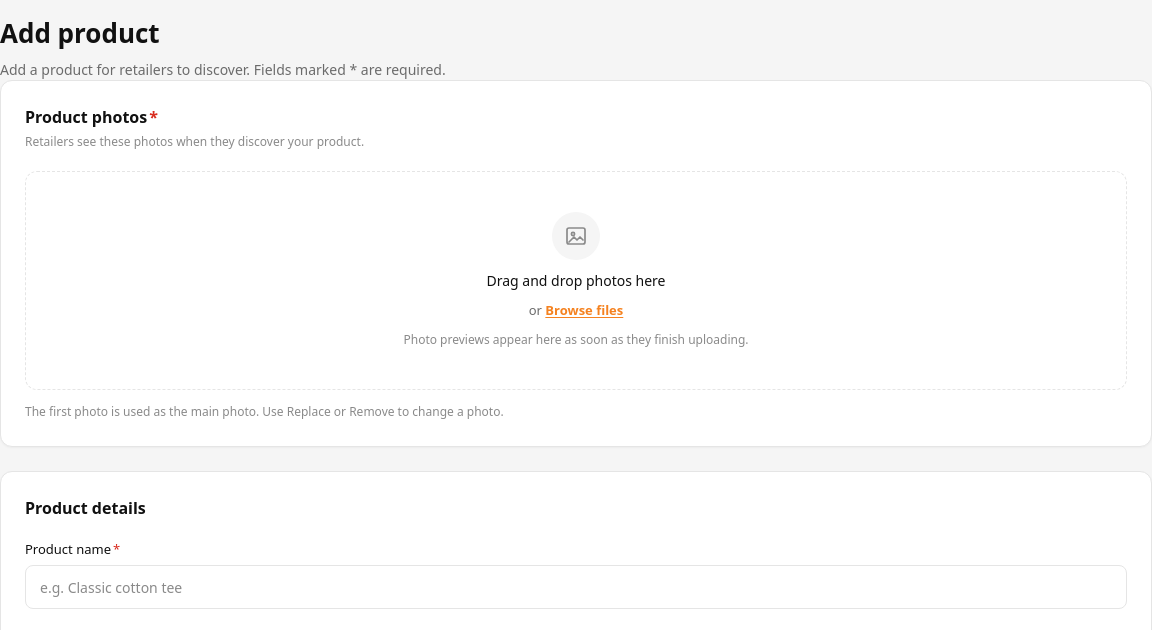
Test: add product form › updates the sticky Preview card live as fields are typed
Type "Cotton polo shirt" into the field labelled "Product name*".
click(576, 587); type("Cotton polo shirt")  # box x1=25 y1=565 x2=1127 y2=609
(page scrolled)
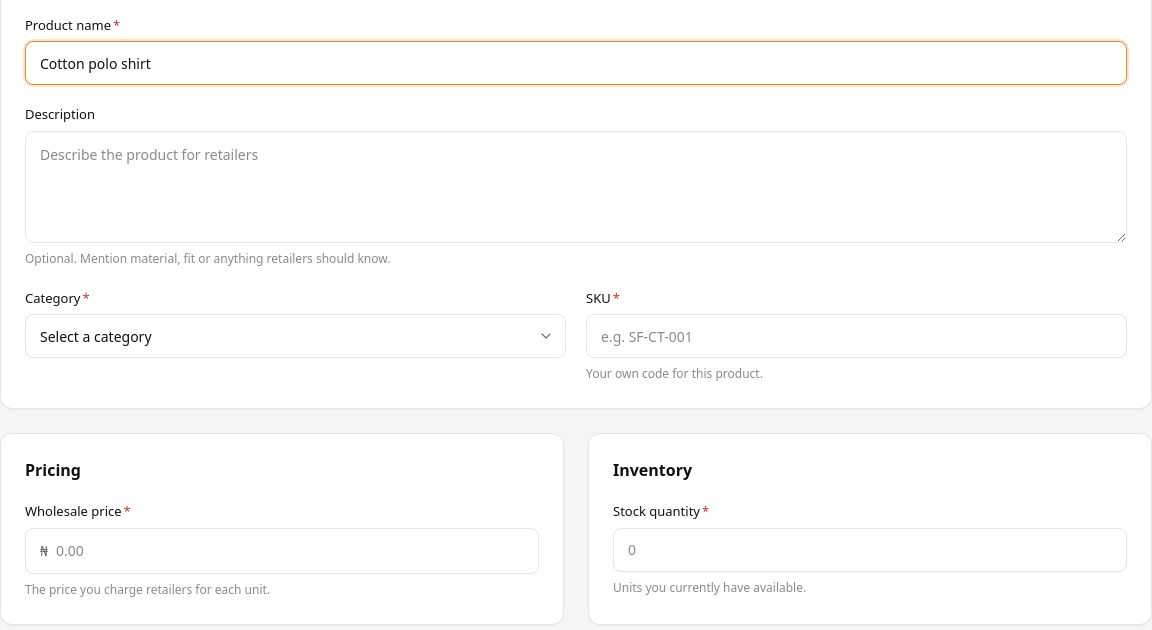
Select "Tops" in the dropdown labelled "Category*" at (296, 336), box x1=25 y1=314 x2=566 y2=358
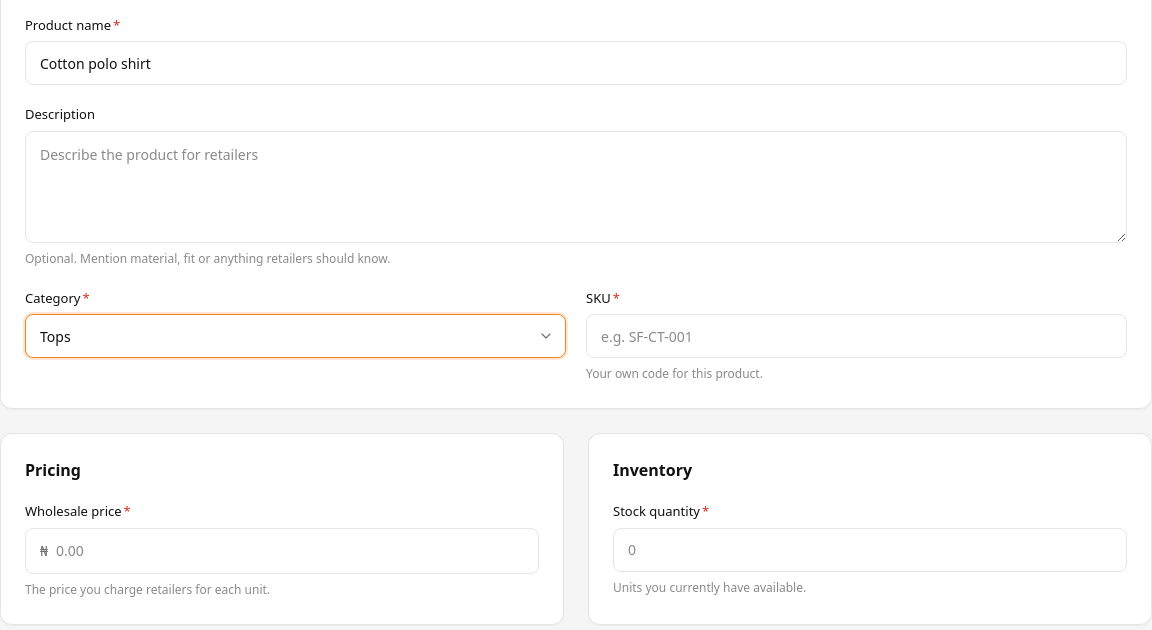
Type "SF-PS-022" into the field labelled "SKU*".
click(856, 336); type("SF-PS-022")  # box x1=586 y1=314 x2=1127 y2=358
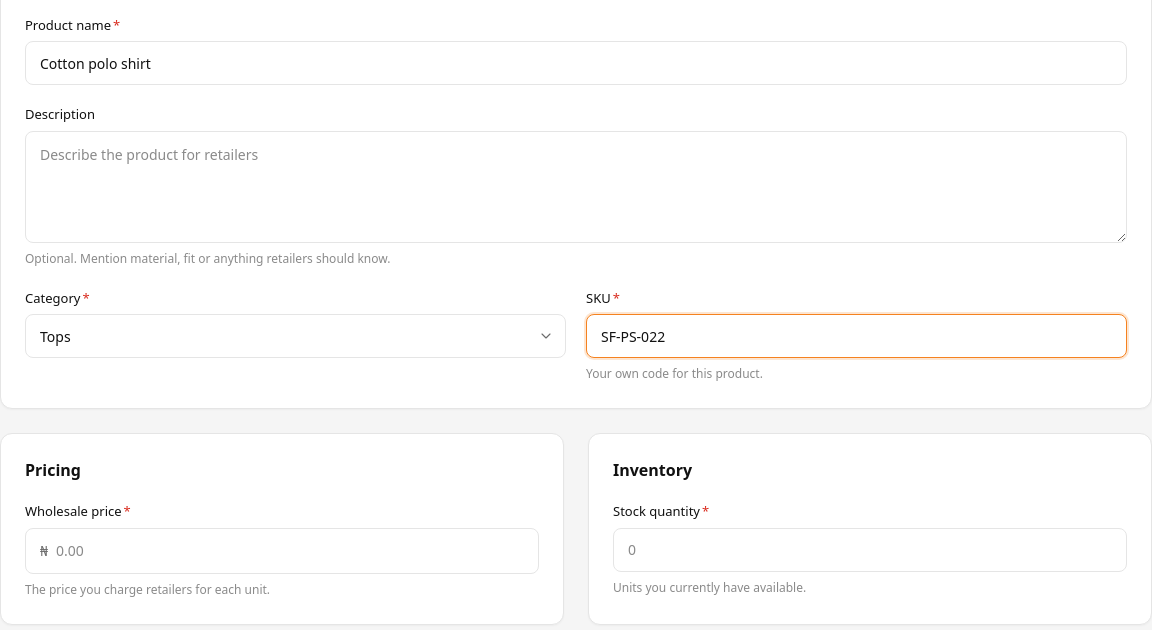
Type "7500" into the field labelled "Wholesale price*".
click(293, 550); type("7500")  # box x1=48 y1=528 x2=538 y2=572
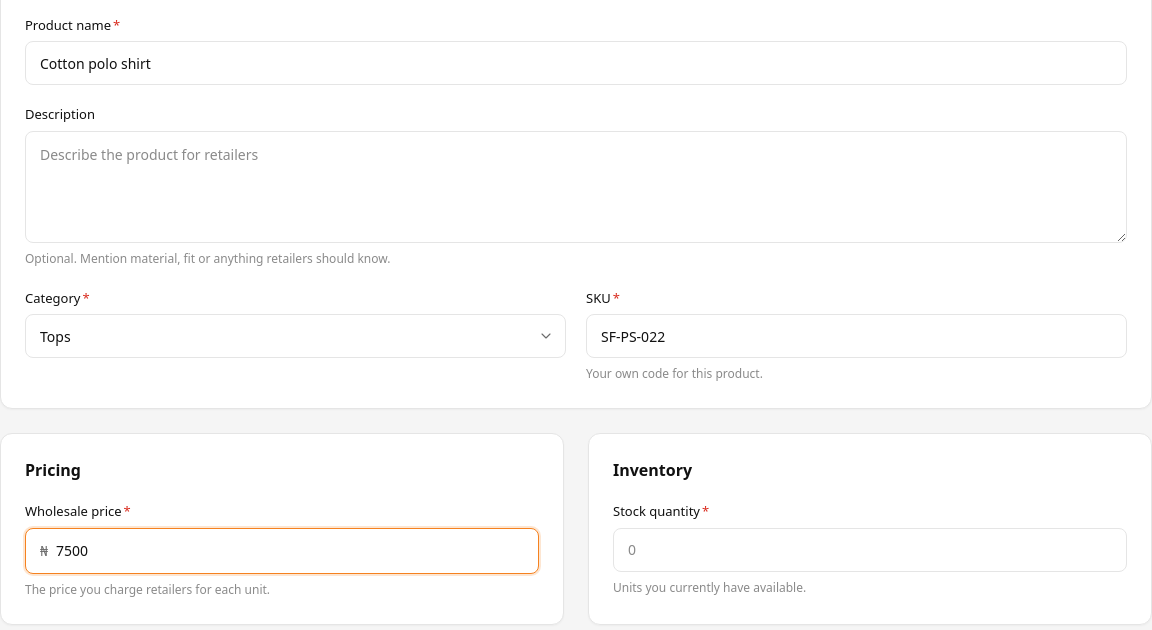
Type "60" into the field labelled "Stock quantity*".
click(870, 550); type("60")  # box x1=613 y1=528 x2=1127 y2=572
(page scrolled)
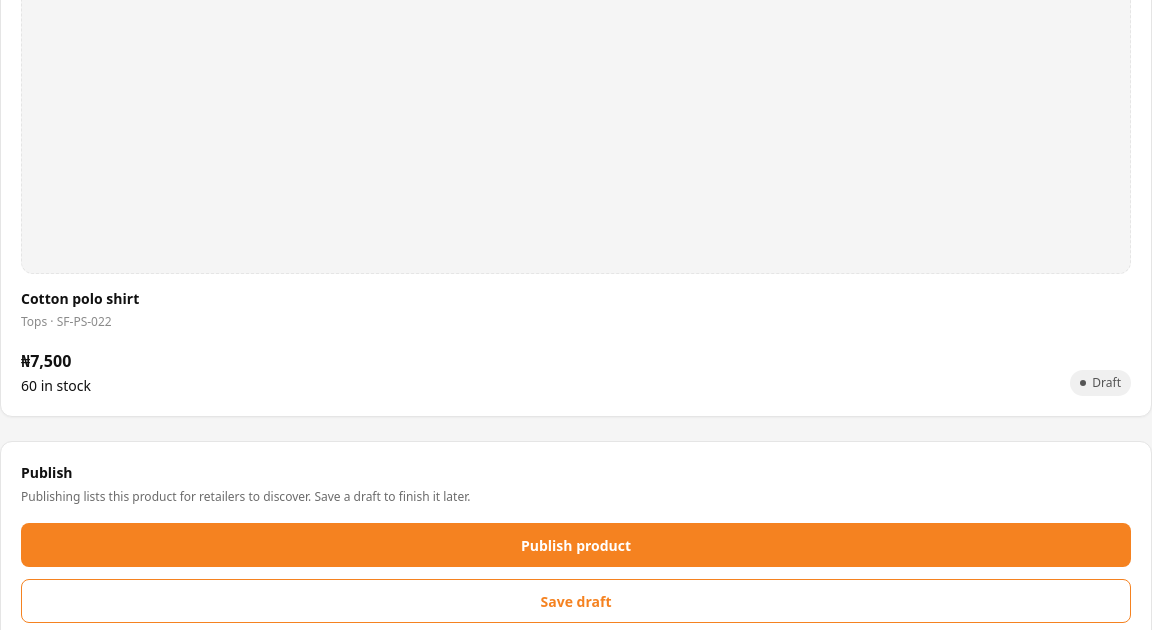
Expected: the text "Tops · SF-PS-022" is shown, x1=21 y1=313 x2=112 y2=330
Expected: the text "₦7,500" is shown, x1=21 y1=350 x2=71 y2=372
Expected: the text "60 in stock" is shown, x1=21 y1=375 x2=91 y2=396
